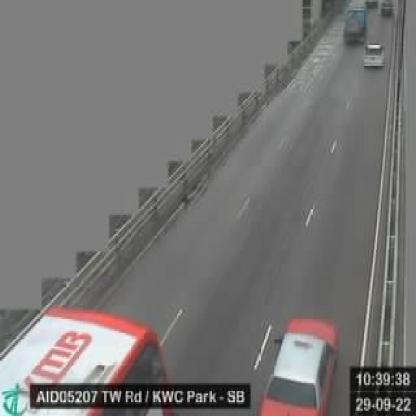Bus: (0, 296, 164, 414)
Car: (254, 302, 338, 414), (361, 38, 390, 76), (380, 0, 394, 21), (361, 0, 375, 10)
Truck: (342, 2, 368, 45)
